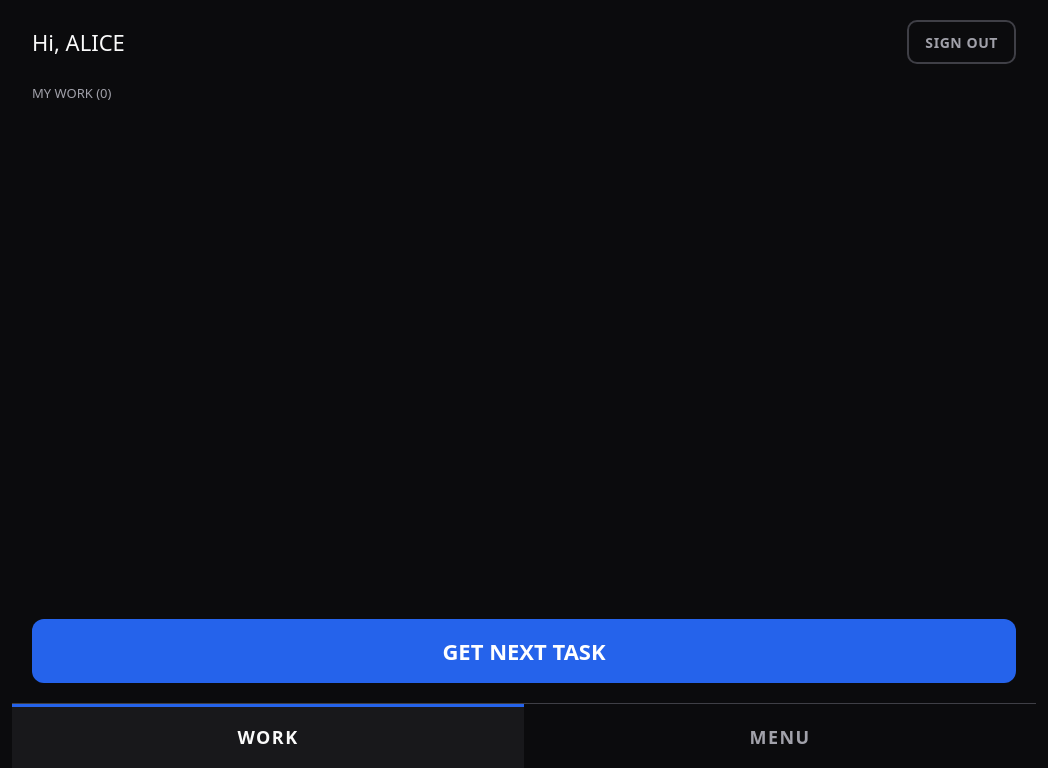
Test: Get Next with empty pool shows no-work message
Click the button "GET NEXT TASK". click: [524, 651]
box: [32,619,1016,683]
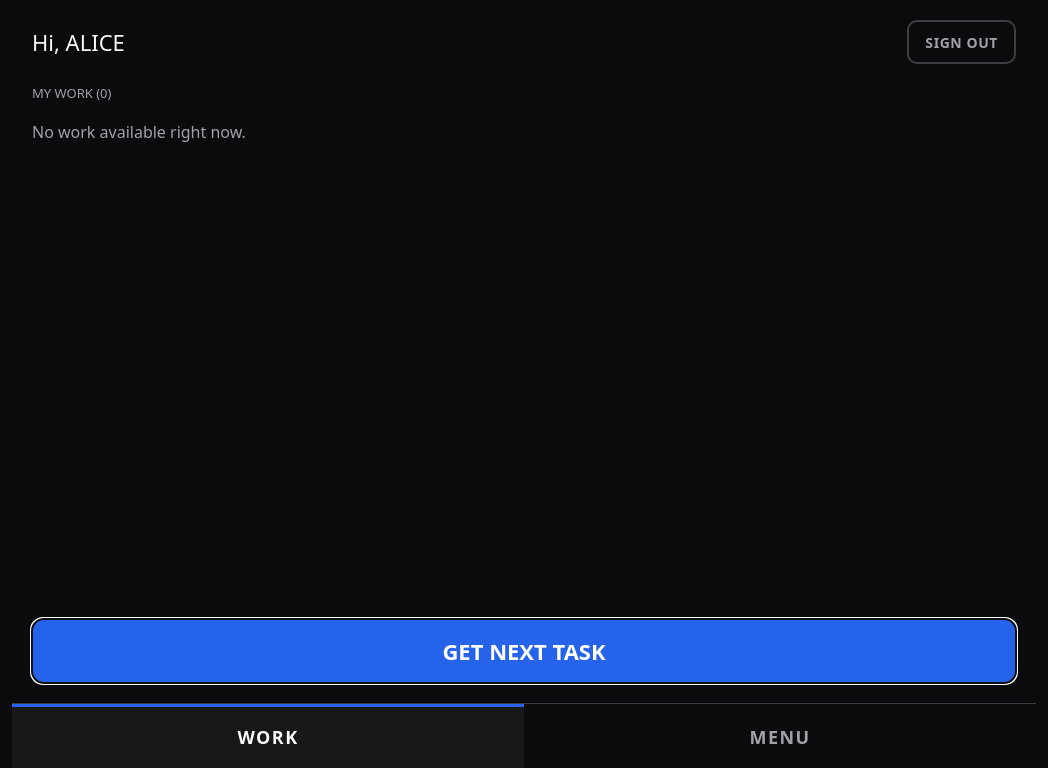
expect the text "No work available right now." is shown: met, box [32,120,246,142]
